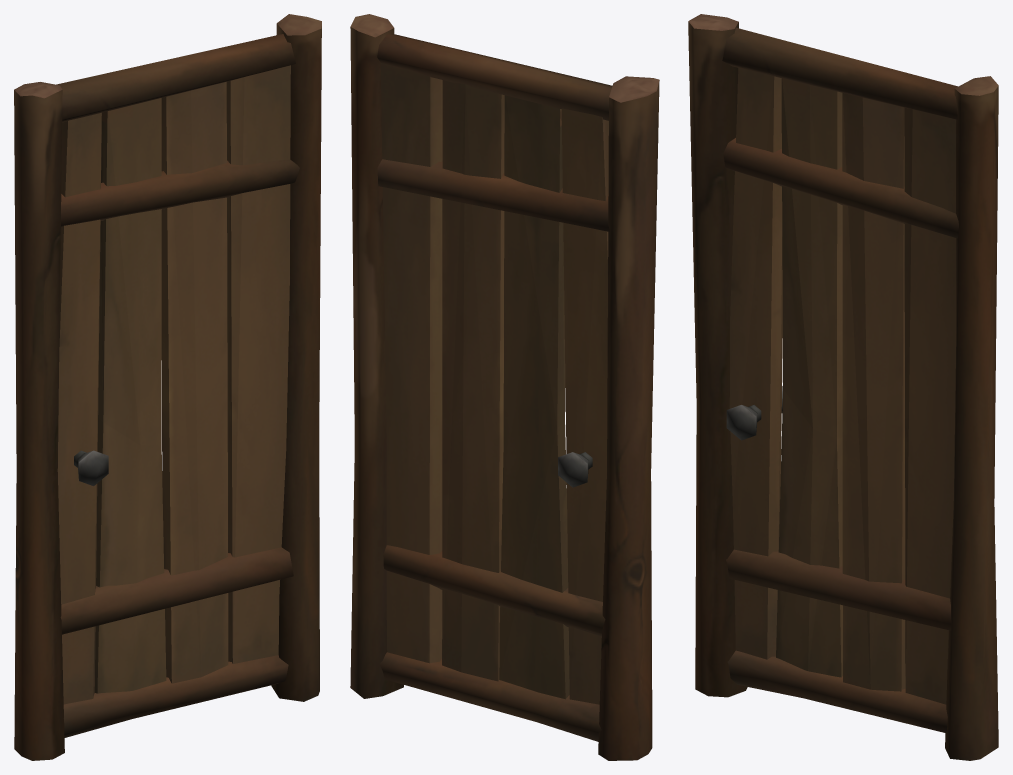
File: Door01_d.FBX
The picture shows the model from 3 angles, left to right: view 1: azimuth 30°, elevation 25°; view 2: azimuth 150°, elevation 25°; view 3: azimuth 330°, elevation 25°; orthographic projection.
Parts seen in each view (by area): view 1: Object148; view 2: Object148; view 3: Object148.
Boxes of the visible parts, x1,y1,x2,y2 form: Object148: (14,14,321,760); Object148: (350,14,659,760); Object148: (688,14,998,760).
Size of the model in its own units: 0.973 by 2.06 by 0.2349.
Materials: 1 (1 with a texture image).
